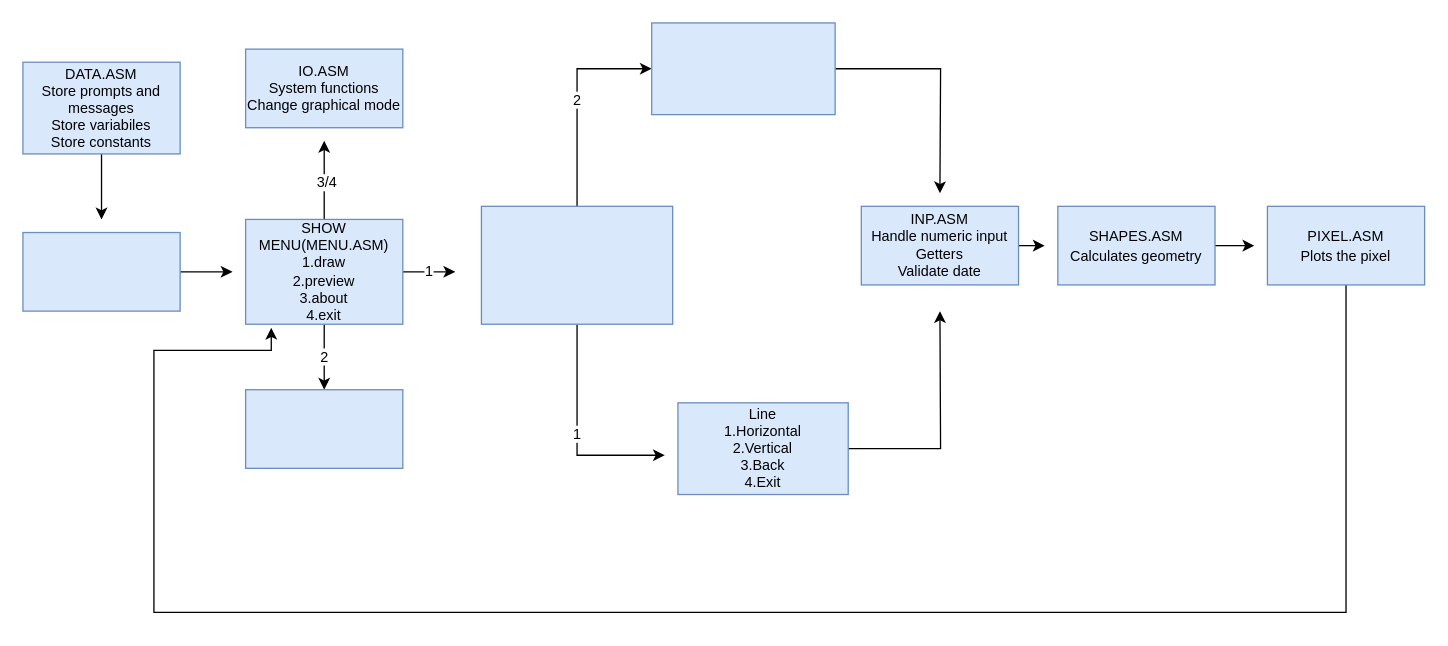
The diagram is 1448 pixels wide and 646 high, and some of its shapes have lost their labels. The centre of each missing label's shape, as x and y in pixels:
DRAW 1.Line 2.Square 3.Back 4.Exit: the point at 576,264
FILE.ASM Saves and loads: the point at 323,428
MAIN.ASM -Initializes Code -Clear screen -Enter Main Menu: the point at 101,271
Square 1.Filled 2.Outline 3.Back 4.Exit: the point at 742,68
